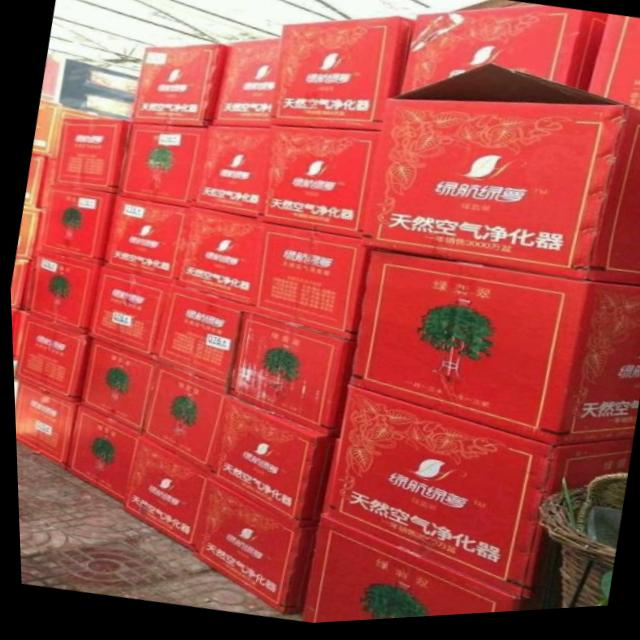box: (315, 389, 628, 606), (357, 69, 640, 294), (346, 256, 640, 450), (289, 522, 556, 626), (399, 11, 607, 101), (182, 478, 313, 617), (271, 23, 417, 138), (202, 398, 334, 522), (226, 309, 346, 436), (259, 129, 375, 241), (249, 228, 362, 339), (144, 285, 246, 394), (120, 433, 207, 550), (136, 365, 225, 470), (76, 331, 159, 435), (174, 208, 260, 305), (87, 265, 173, 362), (128, 47, 228, 128), (186, 128, 269, 222), (99, 196, 186, 285), (62, 407, 138, 503), (117, 124, 202, 209), (203, 41, 283, 128), (10, 310, 87, 399), (29, 182, 112, 260), (23, 245, 99, 330), (12, 377, 79, 466), (31, 101, 126, 162), (52, 122, 129, 195), (587, 23, 640, 119), (28, 151, 61, 213), (13, 208, 39, 262), (8, 259, 30, 310), (9, 307, 26, 347)
